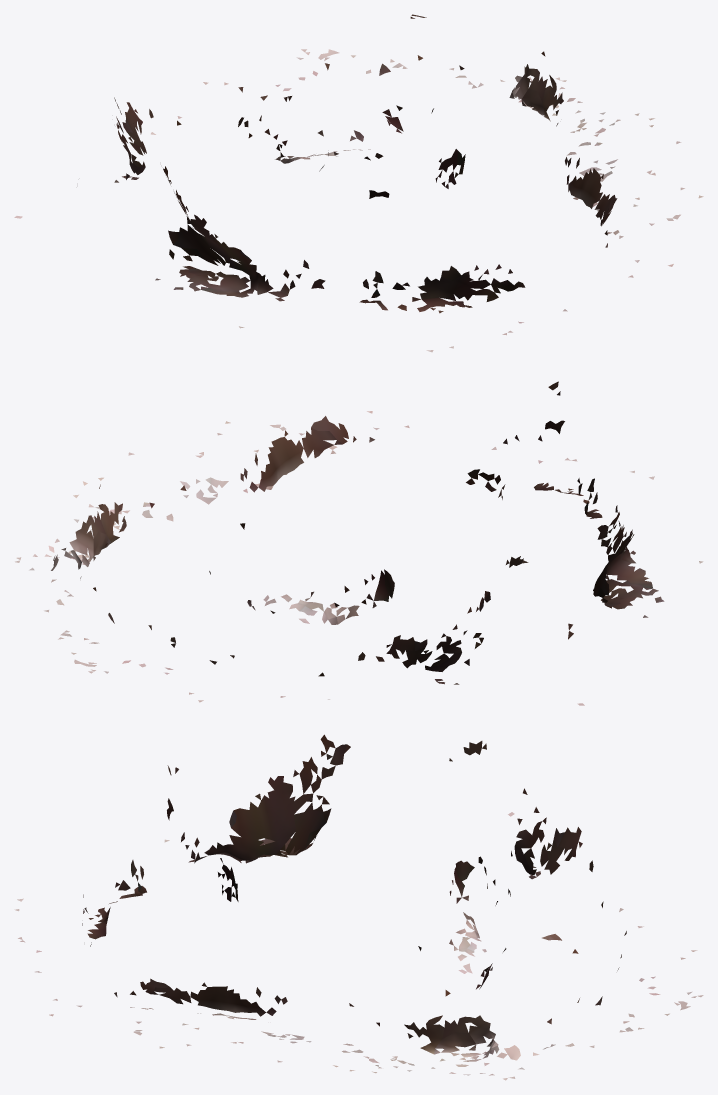
File: prop_poop.glb
3 renders of one model, top to bottom at view 1: azimuth 30°, elevation 25°; view 2: azimuth 150°, elevation 25°; view 3: azimuth 270°, elevation 25°, orthographic. The views are drawn at different scales.
Visible parts, largest first — view 1: prop_poop; view 2: prop_poop; view 3: prop_poop.
Part boxes in pixels (x1,y1,x2,y2): prop_poop: (14,14,703,352); prop_poop: (15,381,703,705); prop_poop: (14,734,703,1080).
Size of the model in its own units: 0.2657 by 0.0651 by 0.2763.
1 material, 1 textured.
